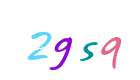2: (17, 0, 97, 80)
G: (22, 0, 102, 80)
Q: (59, 0, 139, 80)
S: (29, 0, 109, 80)
